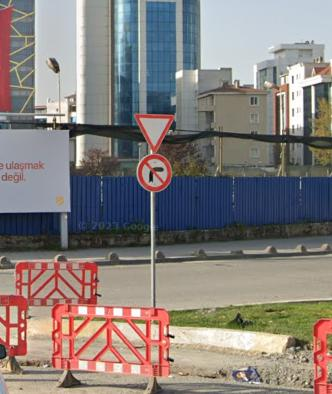rightturnsareforbidden: (137, 154, 171, 191)
